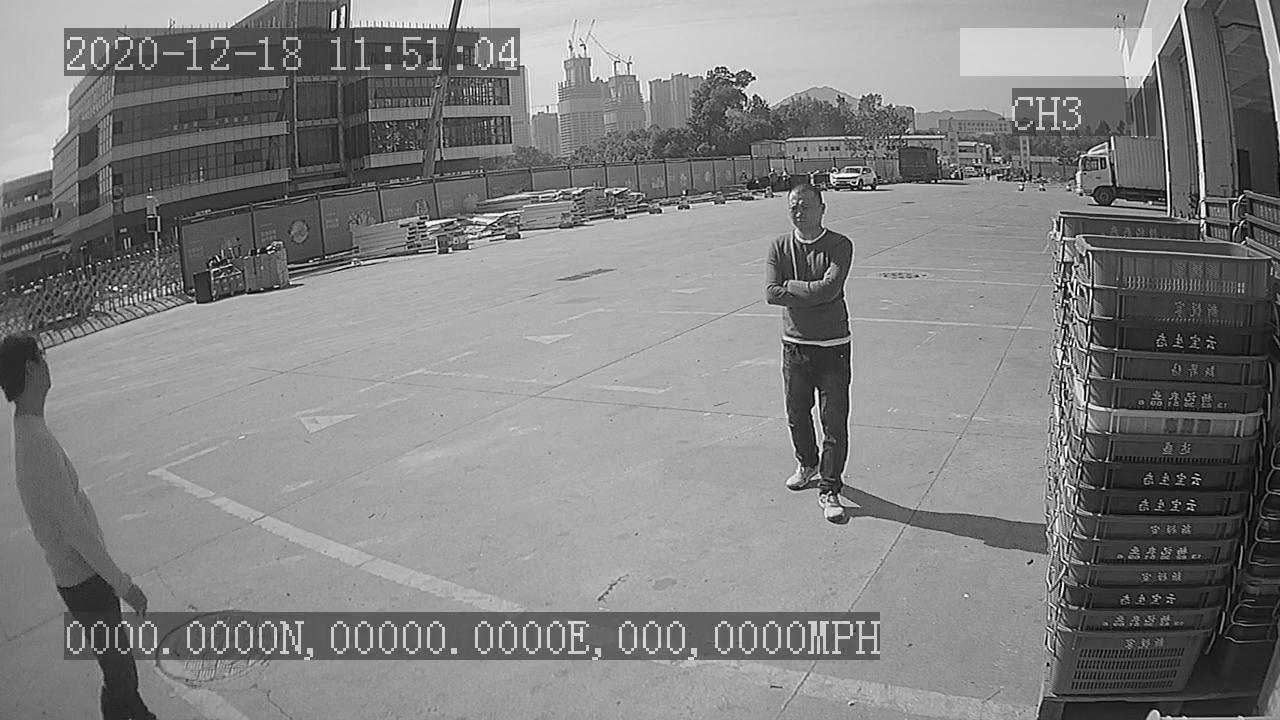person: (756, 179, 859, 527)
